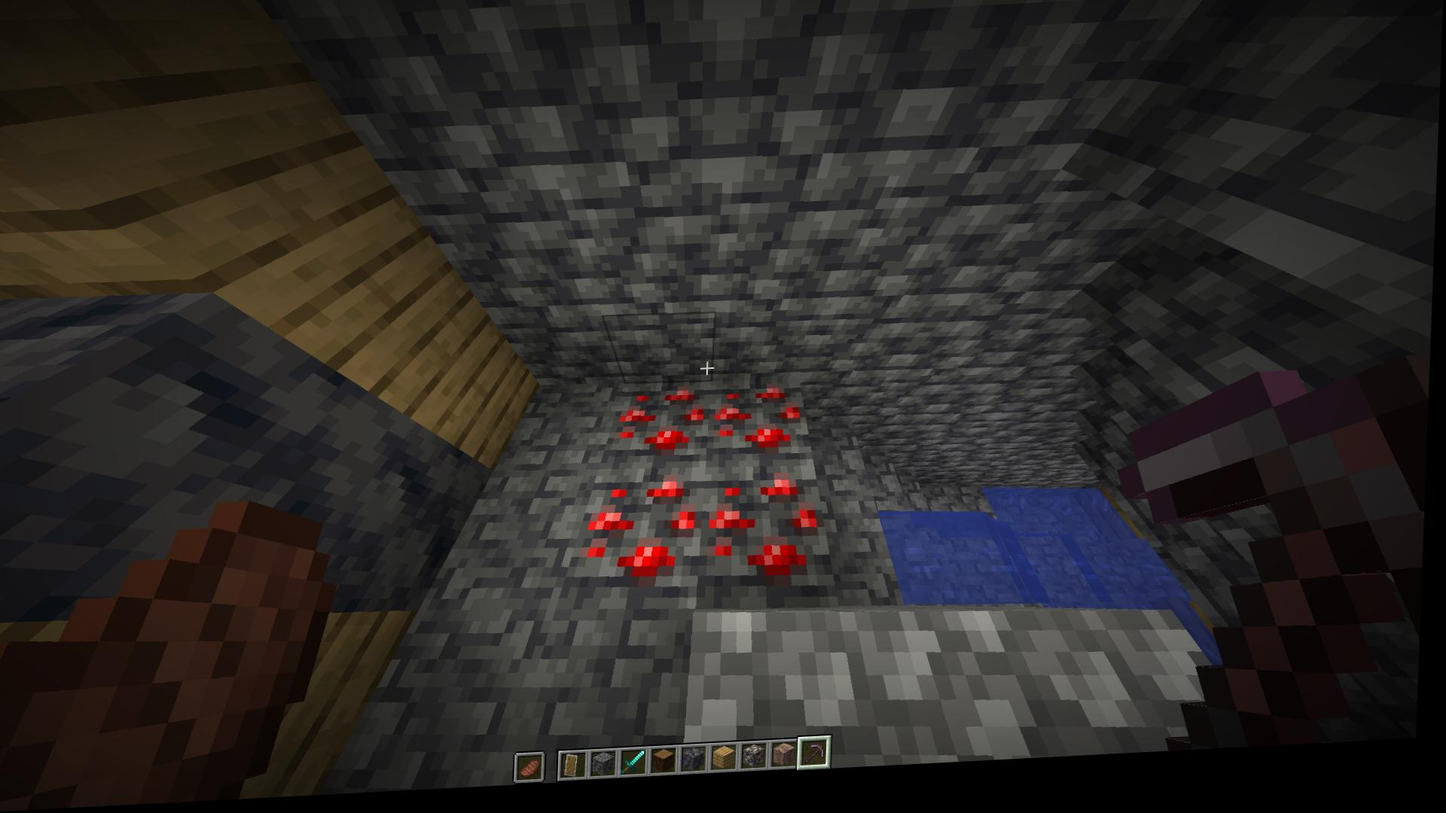redstone ore: (573, 475, 709, 613), (706, 478, 821, 597), (709, 384, 809, 475), (617, 386, 711, 469)
